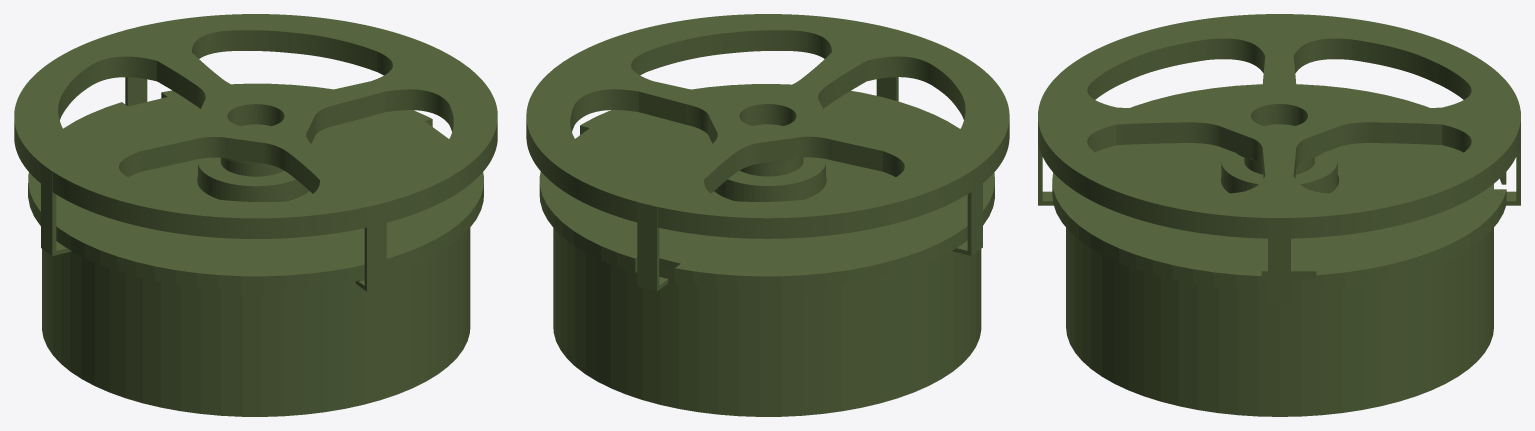
3 renders of one model, left to right at view 1: azimuth 30°, elevation 25°; view 2: azimuth 150°, elevation 25°; view 3: azimuth 270°, elevation 25°, orthographic.
Bounding box in the file's own units: 0.212 × 0.104 × 0.212.
